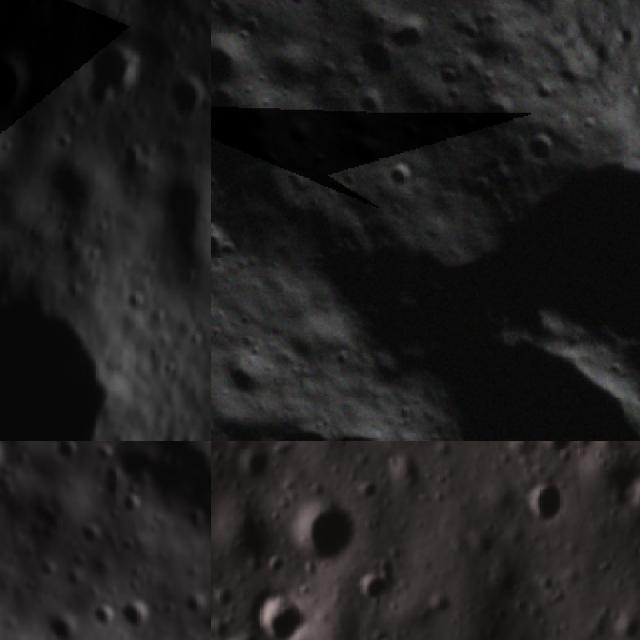crater: (454, 116, 640, 418), (379, 274, 640, 441), (211, 342, 287, 423), (346, 22, 416, 98), (292, 500, 362, 571), (470, 84, 538, 152), (510, 119, 577, 184), (338, 119, 404, 184), (381, 7, 446, 73), (211, 20, 263, 100), (372, 144, 435, 205), (250, 587, 321, 640), (440, 97, 498, 156), (211, 218, 249, 290), (88, 49, 140, 97), (522, 479, 572, 526), (211, 0, 250, 50), (360, 556, 397, 608), (120, 593, 158, 636), (39, 607, 85, 640), (0, 53, 22, 107), (92, 601, 121, 630), (385, 0, 454, 12), (540, 441, 586, 459), (120, 488, 146, 518), (54, 441, 89, 463), (626, 470, 640, 523), (0, 441, 14, 489), (47, 0, 76, 6)
